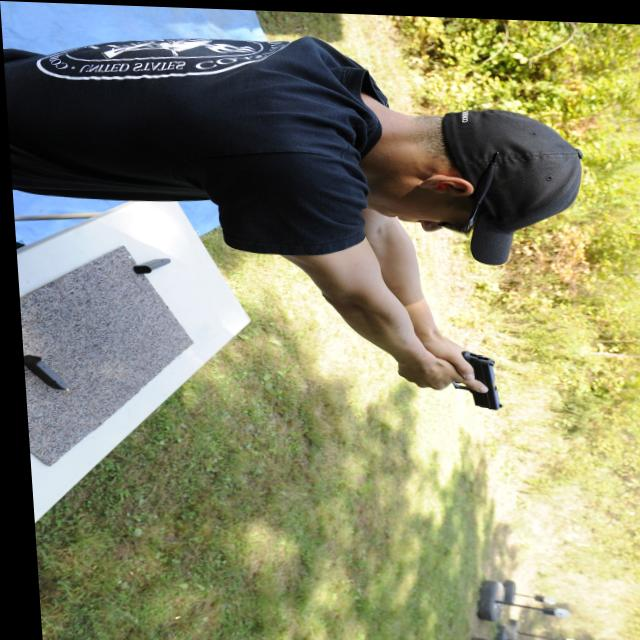handgun: (433, 348, 506, 408)
